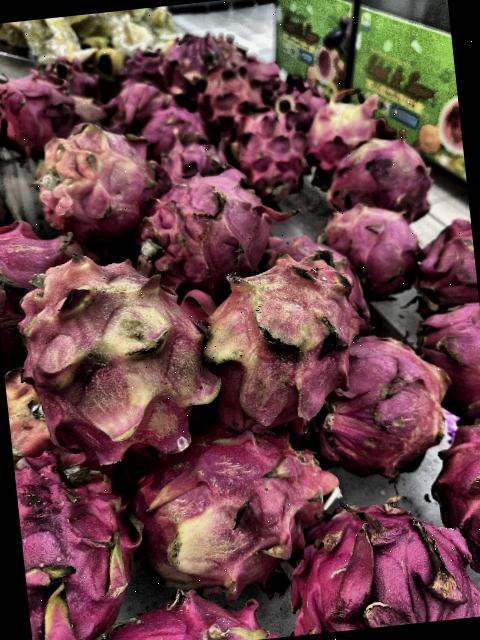buah-naga-belum-matang: (12, 248, 226, 466), (125, 430, 360, 590), (200, 239, 370, 432), (35, 120, 152, 237), (305, 94, 384, 158), (4, 358, 50, 460)
buah-naga-matang: (13, 444, 146, 640), (289, 500, 480, 635), (314, 330, 454, 470), (134, 172, 276, 284), (0, 211, 92, 346), (320, 136, 445, 232), (320, 202, 426, 306), (89, 593, 274, 640), (431, 412, 480, 582), (227, 102, 306, 200), (416, 305, 480, 411), (411, 217, 480, 313), (6, 70, 80, 154), (156, 27, 223, 102), (101, 79, 174, 130), (195, 65, 257, 122), (261, 72, 321, 128), (148, 136, 212, 181), (46, 56, 110, 100), (144, 108, 207, 146), (0, 39, 24, 133)
